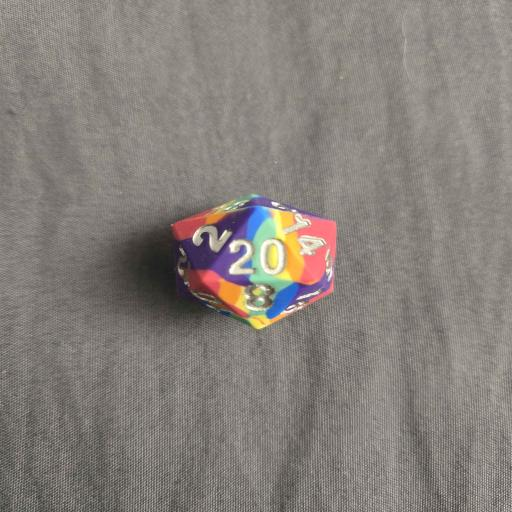twenty sided dice: (170, 194, 336, 328)
